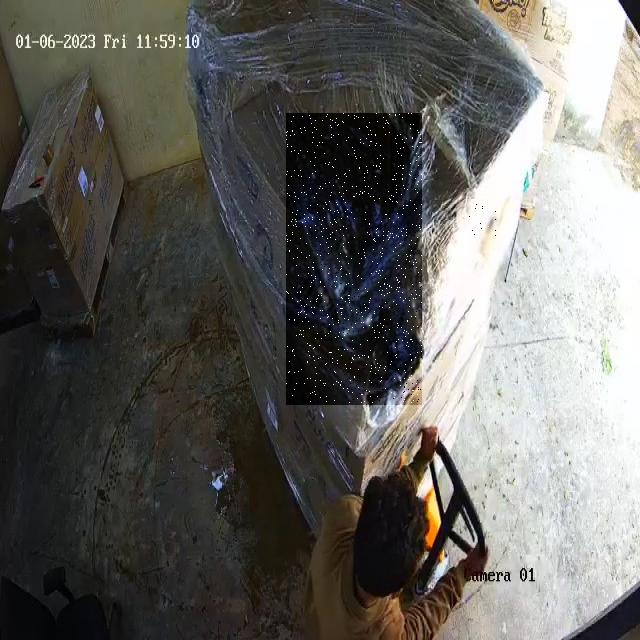leakage: (468, 200, 496, 253)
squeeze: (286, 113, 422, 403)
